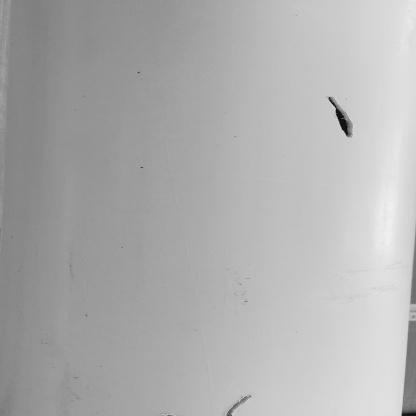fengxi: (225, 393, 256, 416)
kongdong: (324, 96, 358, 139)
